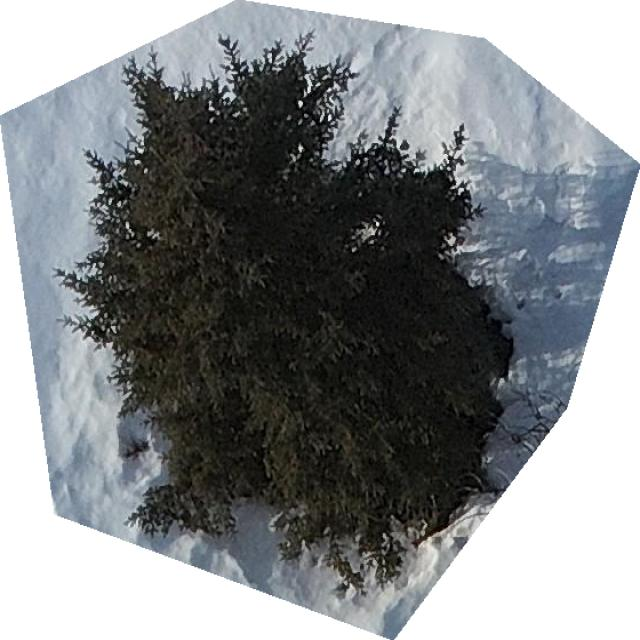pine: (53, 39, 559, 601)
